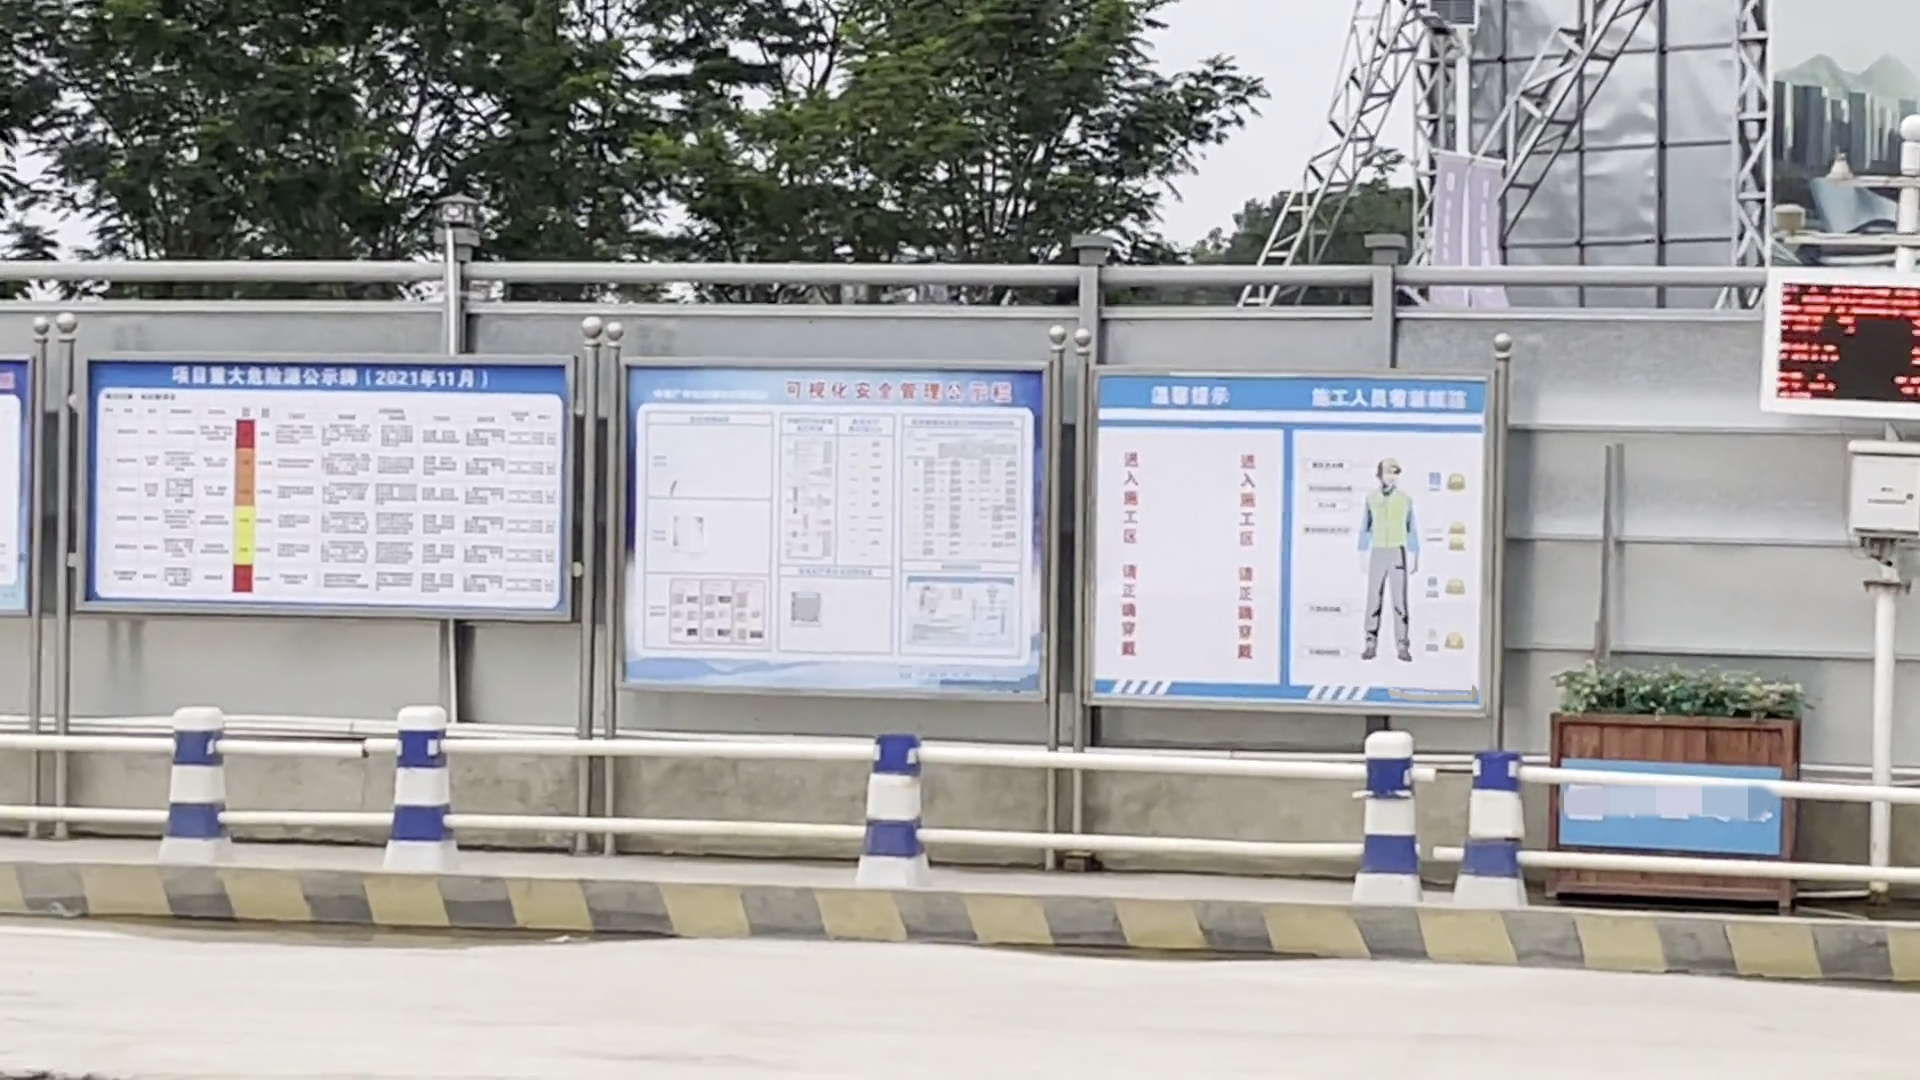slogan: (622, 367, 1040, 705), (1093, 371, 1485, 698), (87, 363, 568, 604)
